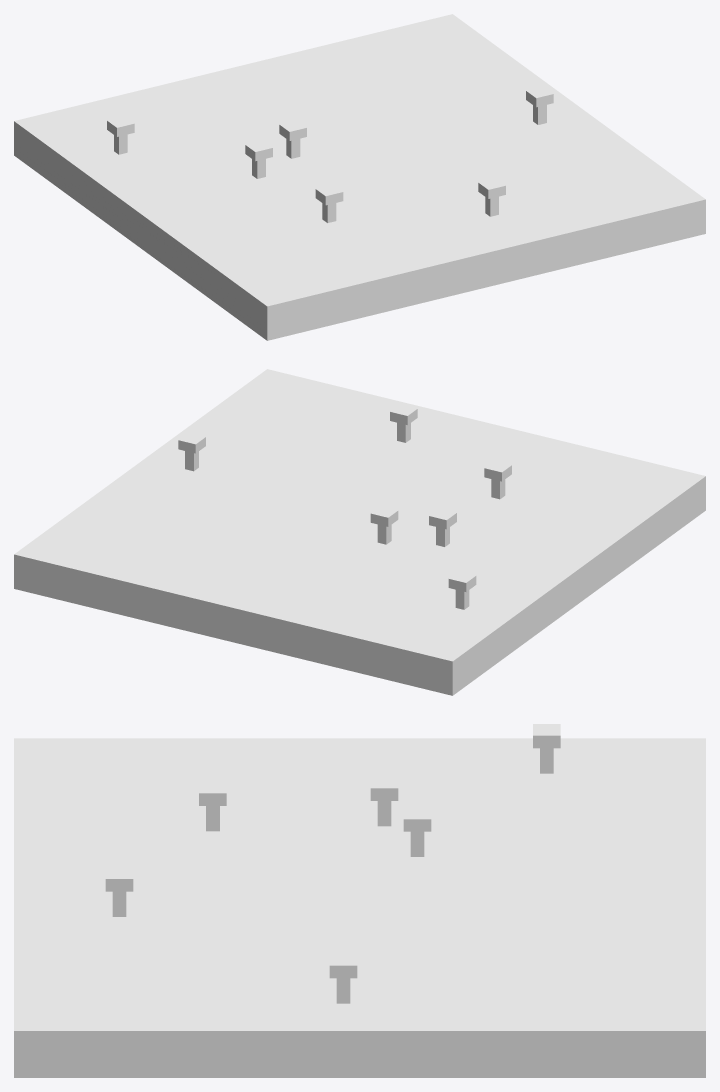
The model's file is garden.glb.
3 renders of one model, top to bottom at view 1: azimuth 30°, elevation 25°; view 2: azimuth 150°, elevation 25°; view 3: azimuth 270°, elevation 25°, orthographic. The views are drawn at different scales.
Parts seen in each view (by area): view 1: Garden; view 2: Garden; view 3: Garden.
Part boxes in pixels (x1,y1,x2,y2): Garden: (14, 14, 705, 340); Garden: (14, 369, 705, 695); Garden: (14, 724, 705, 1077).
Bounding box in the file's own units: 4 × 0.56 × 4.
Materials: 1 (1 with a texture image).
